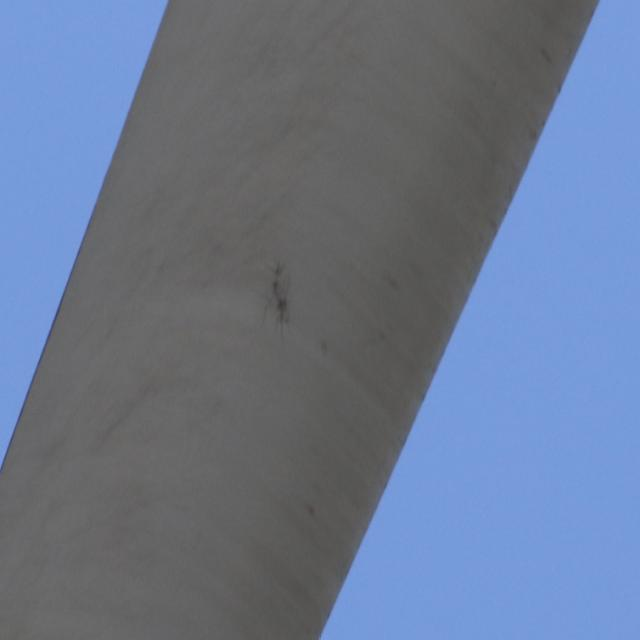Coating_defects: (261, 260, 296, 336)
